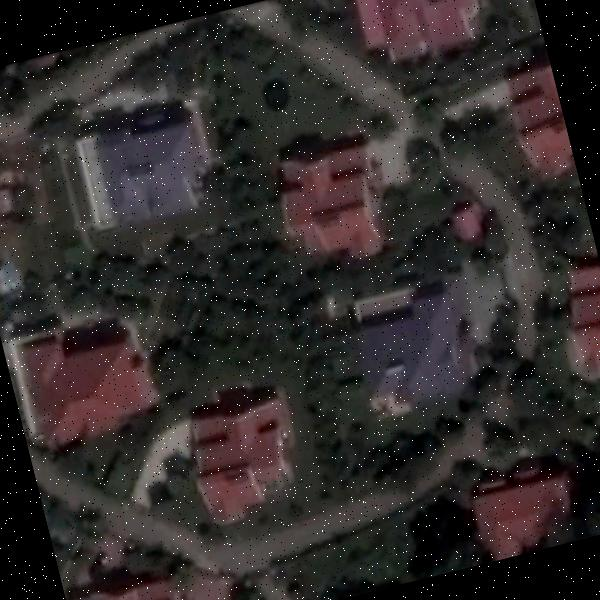Buildings: (15, 316, 155, 449), (75, 97, 215, 230), (349, 283, 478, 418), (183, 380, 305, 521), (271, 138, 393, 272), (345, 0, 489, 83), (472, 467, 570, 558), (504, 60, 576, 180), (556, 265, 600, 375), (68, 567, 199, 600), (456, 207, 487, 240)
